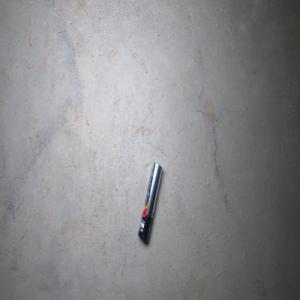Battery: (137, 160, 163, 243)
